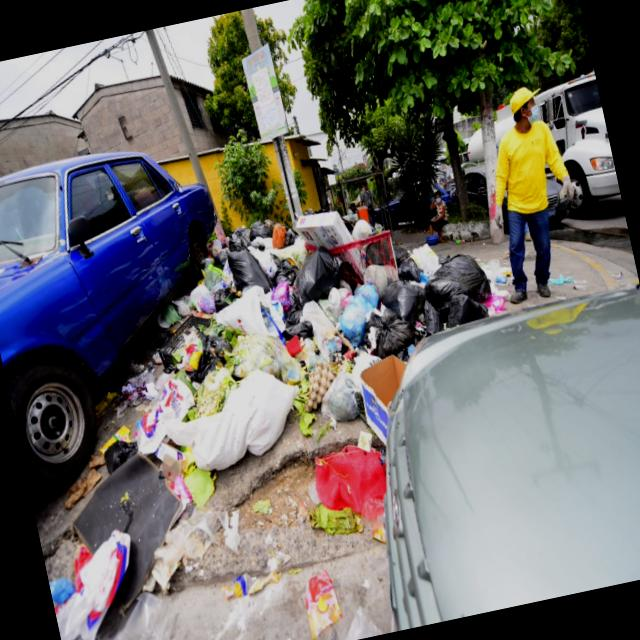garbage: (78, 152, 552, 572)
